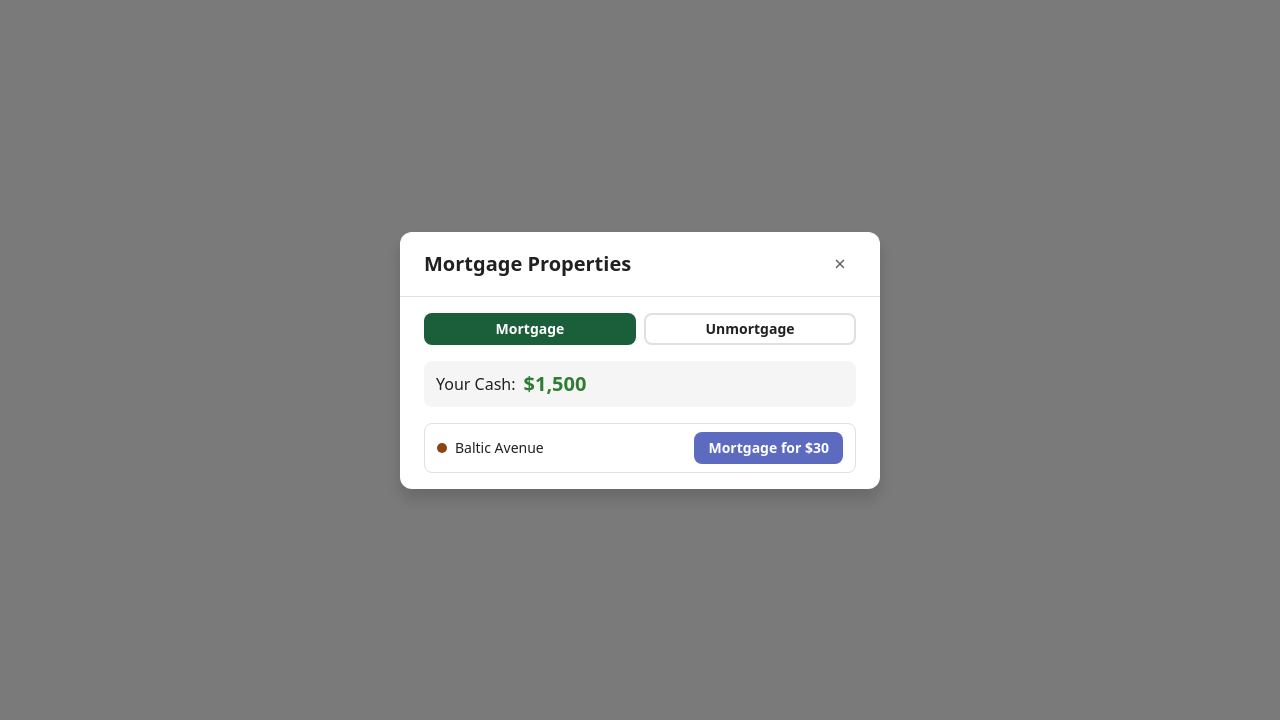
Test: Step 3B.4 — Mortgage Management UI › MortgageManager › P3B.S4.T5: unmortgage mode shows cost with 10% interest
Click the button with test id "unmortgage-mode-button".
click(750, 328)  # box [644,312,856,344]
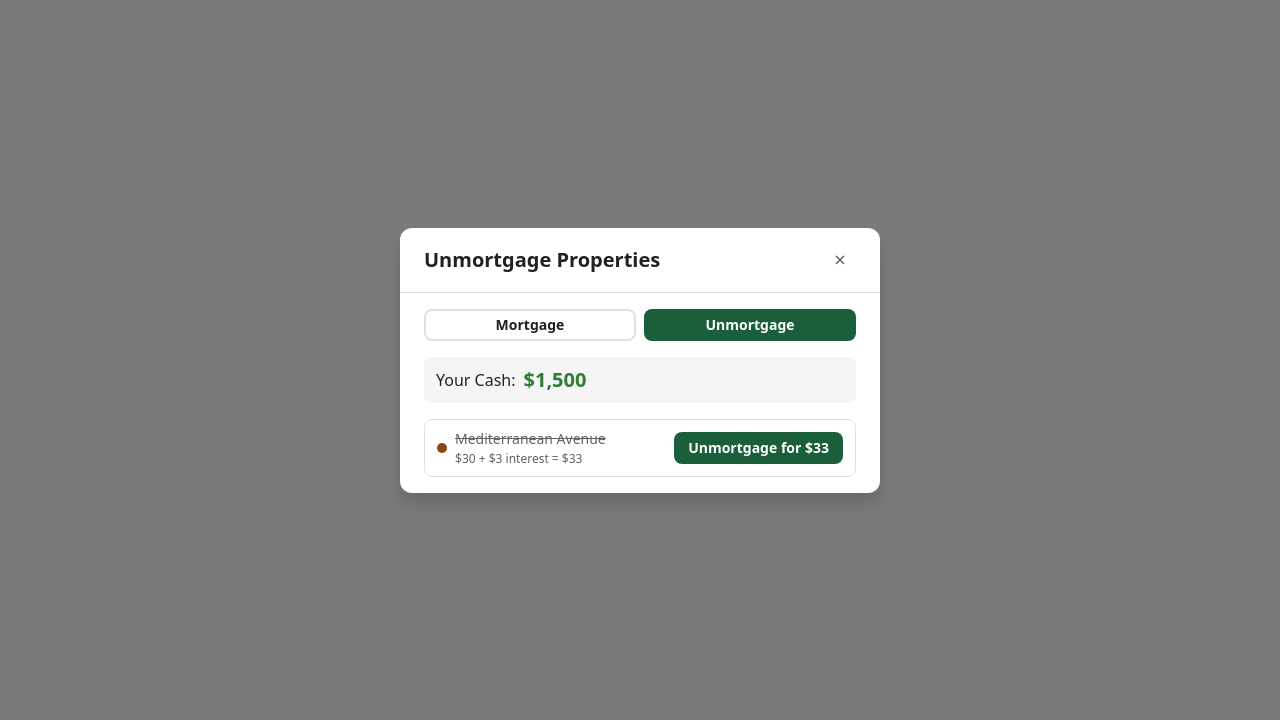
Expected: the button with test id "unmortgage-button-1" reads "Unmortgage for $33", [674,432,843,464]
